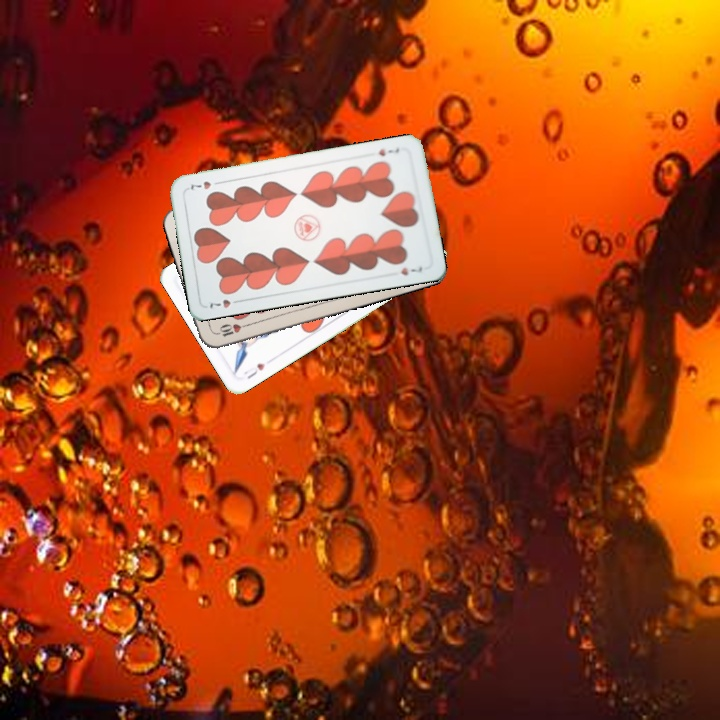H10: (212, 320, 252, 339)
H7: (206, 295, 244, 311), (375, 144, 402, 159)
HU: (240, 359, 268, 381)
